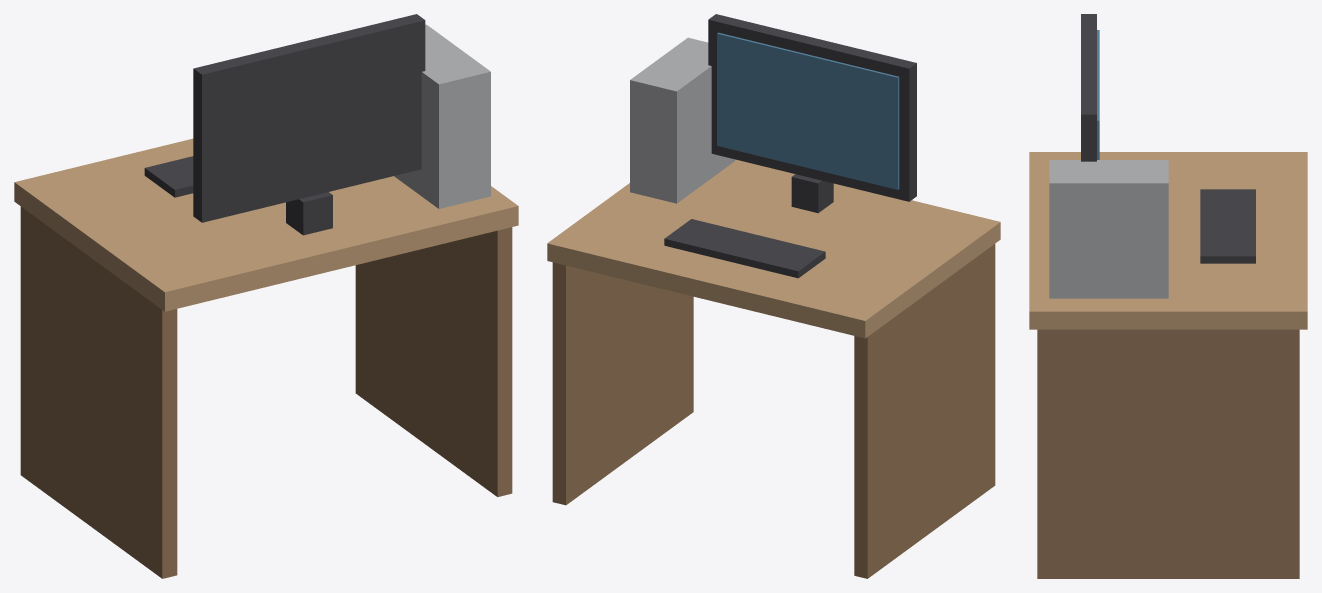
Rendered from computer.glb.
3 renders of one model, left to right at view 1: azimuth 30°, elevation 25°; view 2: azimuth 150°, elevation 25°; view 3: azimuth 270°, elevation 25°, orthographic. The views are drawn at different scales.
Parts seen in each view (by area): view 1: computer; view 2: computer; view 3: computer.
Part boxes in pixels (box(x1,y1,x2,y2)): computer: box(14, 14, 518, 578); computer: box(547, 14, 1000, 578); computer: box(1029, 14, 1307, 578).
Bounding box in the file's own units: 0.95 × 1.21 × 0.7.
